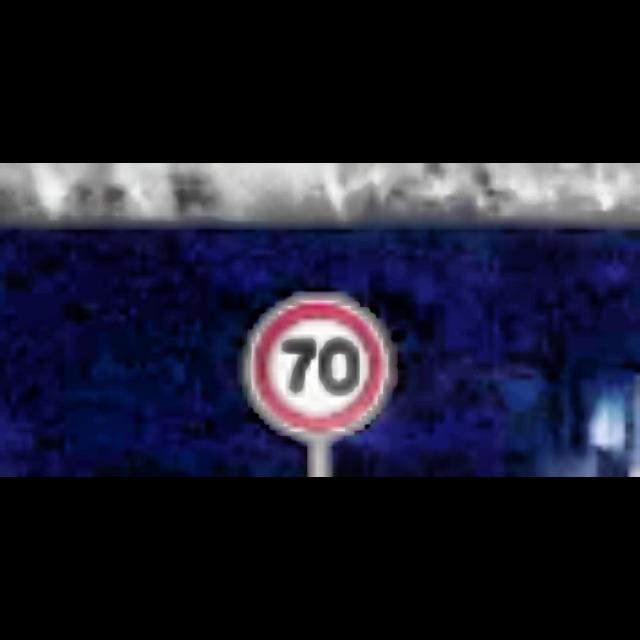speed_70: (242, 298, 394, 442)
